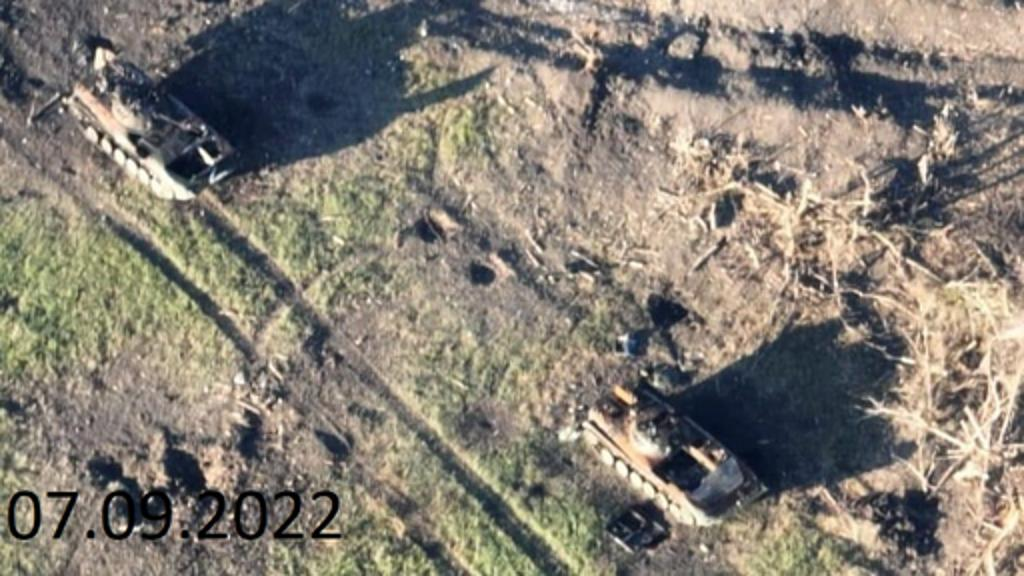APC-IFV: (566, 368, 768, 534), (50, 52, 244, 206)
